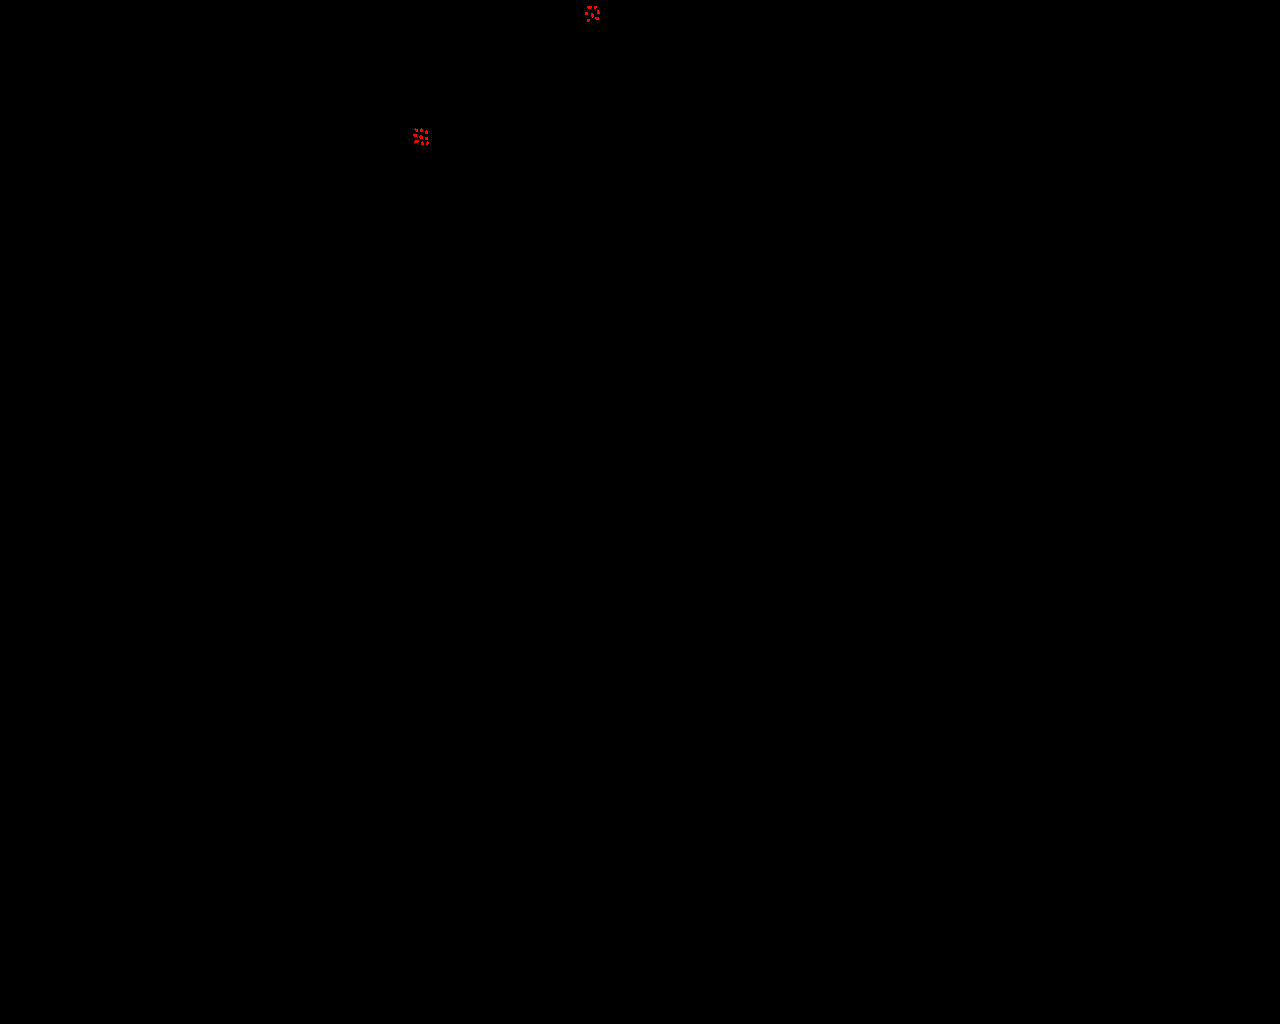Target: (414, 127, 418, 132), (419, 135, 423, 139), (587, 6, 592, 9), (414, 140, 419, 143), (595, 17, 599, 20), (420, 127, 423, 132), (425, 130, 428, 134), (413, 134, 417, 137), (421, 141, 424, 145), (426, 141, 429, 145), (591, 13, 594, 18), (594, 6, 597, 9), (597, 10, 600, 14), (585, 11, 588, 15), (587, 19, 590, 22), (425, 137, 428, 140)
